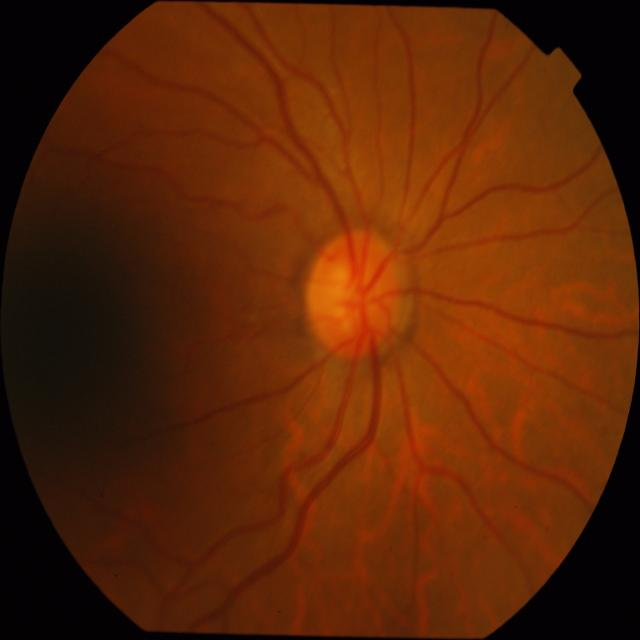OC: (326, 266, 384, 334)
OD: (305, 227, 405, 358)
